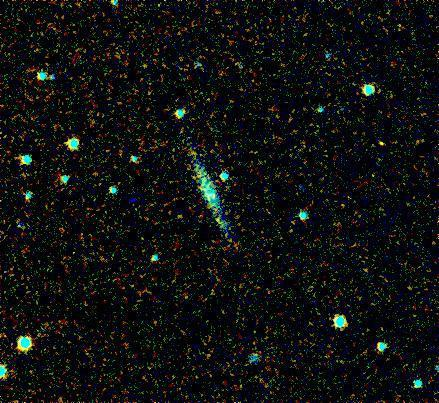star: (368, 128, 398, 158)
